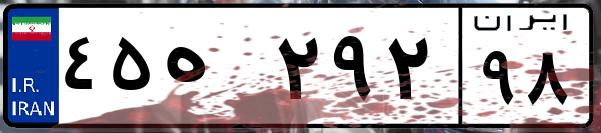2: (270, 28, 330, 110), (385, 28, 445, 110)
4: (57, 26, 110, 100)
5: (110, 28, 158, 98)
8: (525, 38, 570, 115)
9: (330, 28, 385, 110), (475, 38, 525, 113)
ه: (158, 20, 270, 120)
